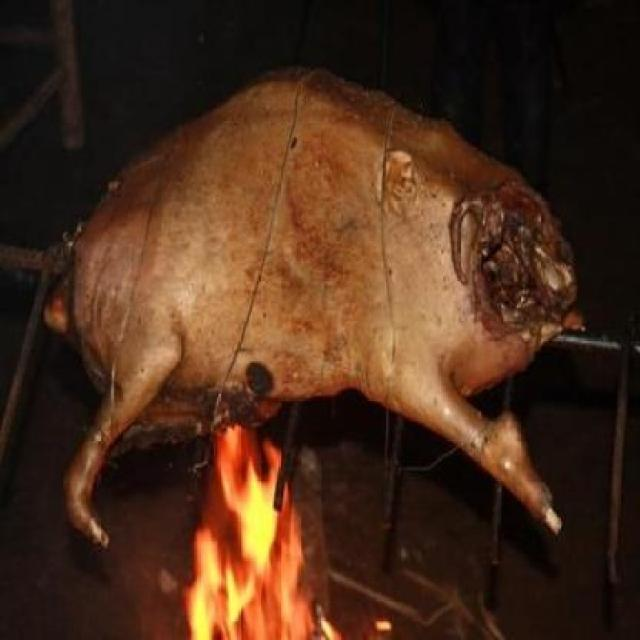Fire: (177, 421, 324, 640)
